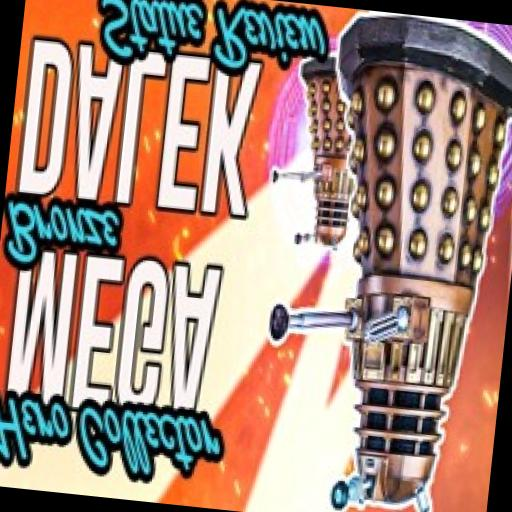dalek: (243, 2, 512, 512), (254, 48, 372, 251)
